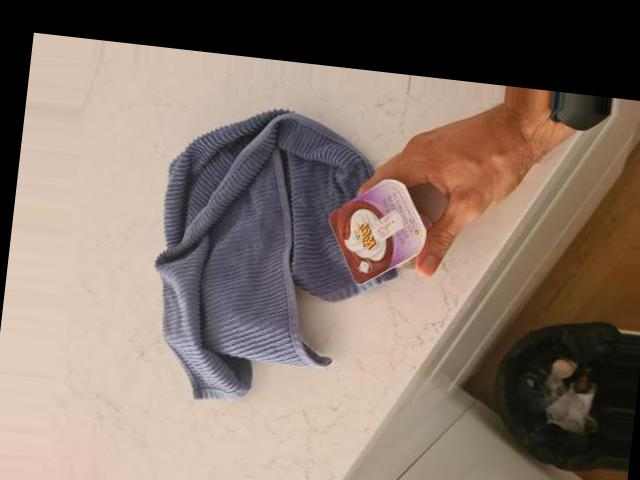milky: (327, 177, 436, 292)
